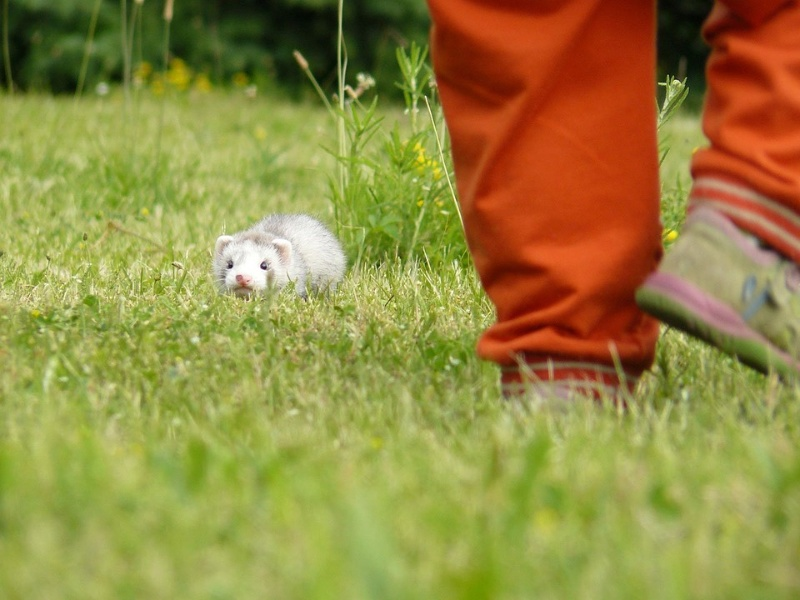human legs: (433, 1, 788, 443)
minkish: (211, 218, 350, 298)
